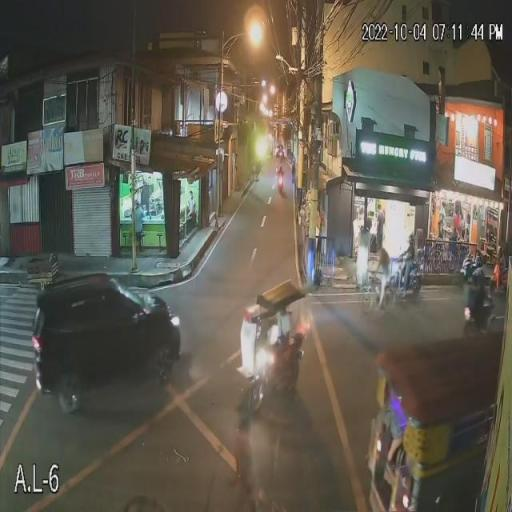helmet: (408, 231, 419, 249)
motorcycle: (374, 254, 430, 302)
rider: (396, 247, 421, 292)
